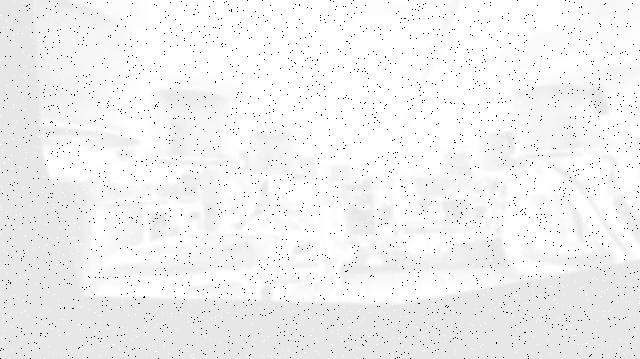pot: (31, 0, 152, 148), (130, 87, 242, 166), (510, 82, 615, 159), (242, 130, 301, 174), (476, 131, 527, 171), (441, 151, 473, 178), (288, 156, 320, 180), (330, 164, 351, 182)
